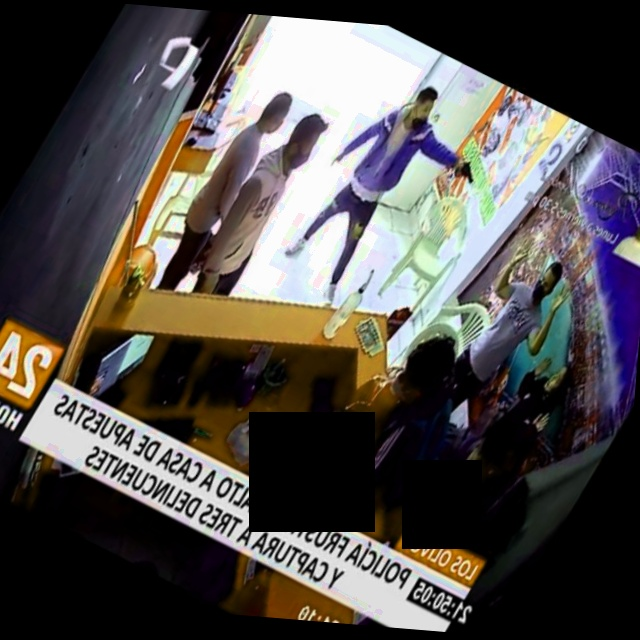gun: (437, 138, 498, 199)
